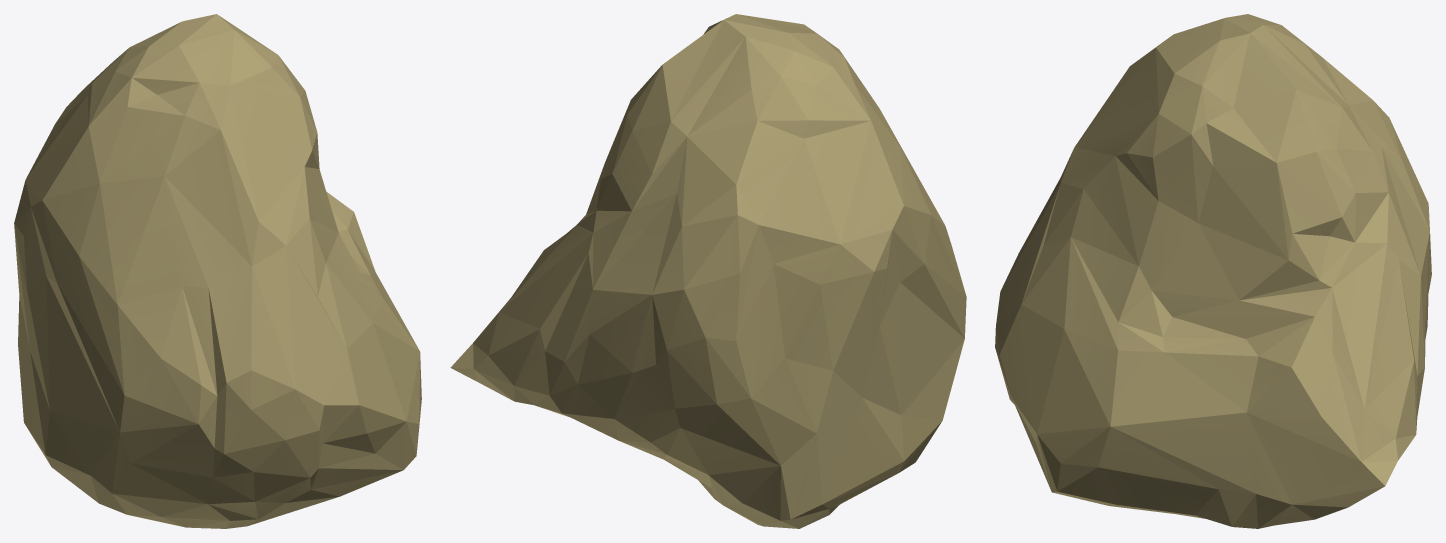
The model's file is SM_rock_78.fbx.
3 renders of one model, left to right at view 1: azimuth 30°, elevation 25°; view 2: azimuth 150°, elevation 25°; view 3: azimuth 270°, elevation 25°, orthographic.
Visible parts, largest first — view 1: rock_78; view 2: rock_78; view 3: rock_78.
Boxes of the visible parts, bbox=[...] form: rock_78: bbox=[14, 14, 421, 528]; rock_78: bbox=[450, 14, 966, 528]; rock_78: bbox=[995, 14, 1431, 528].
Size of the model in its own units: 147 by 176 by 143.
